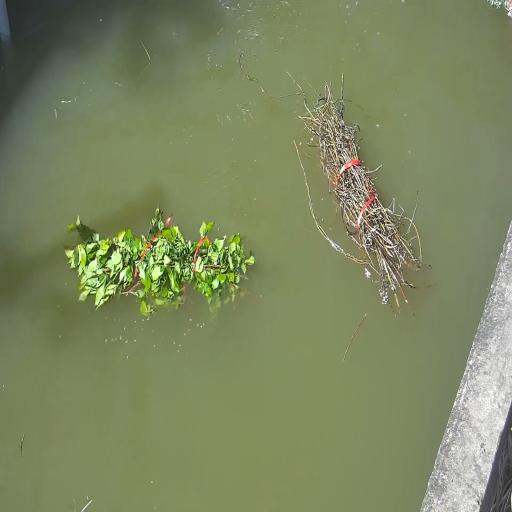twig: (296, 74, 422, 310), (65, 207, 255, 313)
